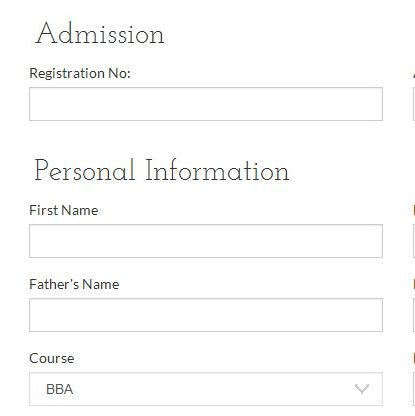field: (27, 82, 385, 123), (26, 296, 384, 335), (28, 223, 384, 261), (27, 371, 384, 408)
field_with_label: (23, 278, 389, 339), (24, 202, 388, 263), (25, 350, 385, 411), (24, 67, 389, 125)
